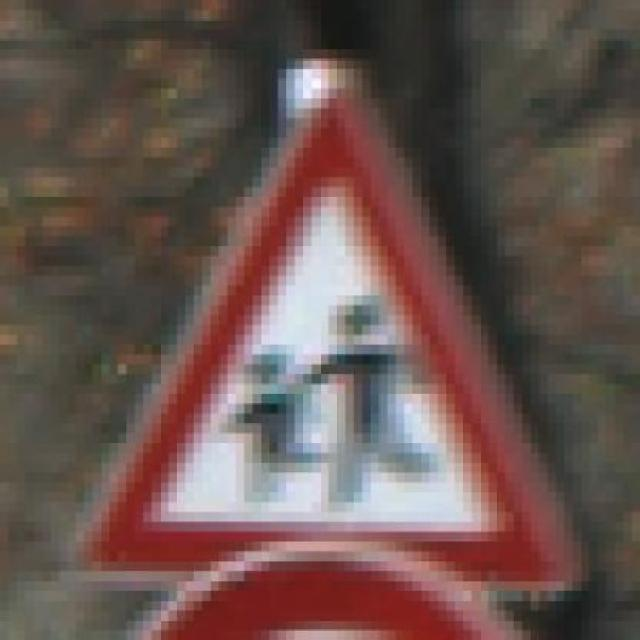Beware of children: (58, 69, 590, 620)
